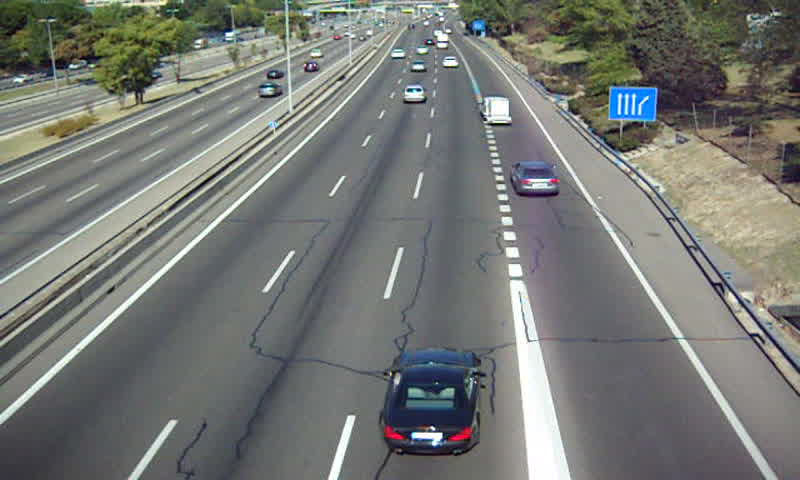car: (381, 350, 481, 455), (512, 162, 562, 196), (403, 84, 427, 104), (409, 61, 429, 74), (442, 54, 460, 68)
van: (478, 97, 511, 124)
